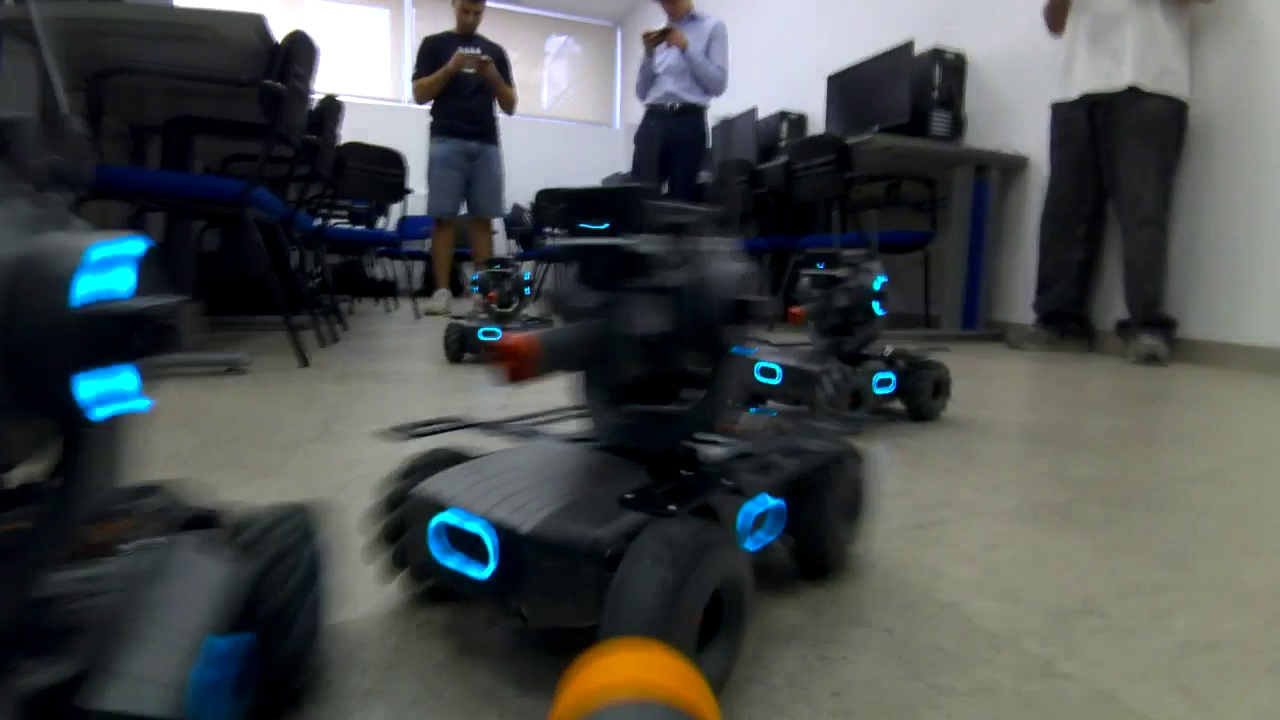robot: (349, 111, 872, 720), (728, 250, 956, 437), (431, 240, 576, 375)
